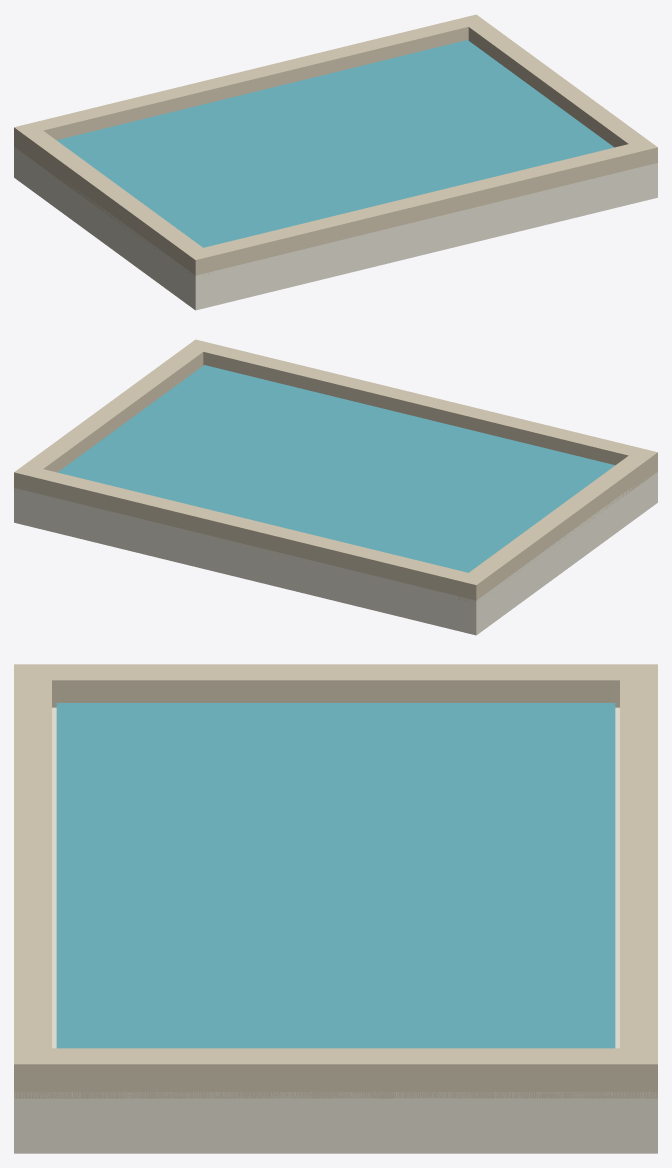
The model's file is pool.glb.
3 views of the same model, one above another, from view 1: azimuth 30°, elevation 25°; view 2: azimuth 150°, elevation 25°; view 3: azimuth 270°, elevation 25° (orthographic). The views are drawn at different scales.
Visible parts, largest first — view 1: Pool water, Pool basin, Pool edge, Pool edge.001, Pool side, Pool side.001; view 2: Pool water, Pool basin, Pool edge.001, Pool edge, Pool side, Pool side.001; view 3: Pool water, Pool basin, Pool side.001, Pool side, Pool edge, Pool edge.001.
Part boxes in pixels (box(x1,y1,x2,y2)): Pool water: box(57, 40, 614, 247); Pool basin: box(14, 147, 657, 310); Pool edge: box(199, 144, 643, 271); Pool edge.001: box(31, 18, 472, 140); Pool side: box(14, 123, 213, 278); Pool side.001: box(459, 14, 657, 165); Pool water: box(57, 365, 614, 572); Pool basin: box(14, 472, 657, 635); Pool edge.001: box(28, 469, 471, 596); Pool edge: box(200, 343, 639, 465); Pool side: box(458, 448, 657, 603); Pool side.001: box(14, 339, 212, 491); Pool water: box(56, 703, 615, 1048); Pool basin: box(14, 707, 657, 1153); Pool side.001: box(14, 1048, 657, 1098); Pool side: box(14, 664, 657, 707); Pool edge: box(14, 676, 51, 1052); Pool edge.001: box(620, 676, 657, 1052).
Size of the model in its own units: 5 by 0.52 by 3.4.
